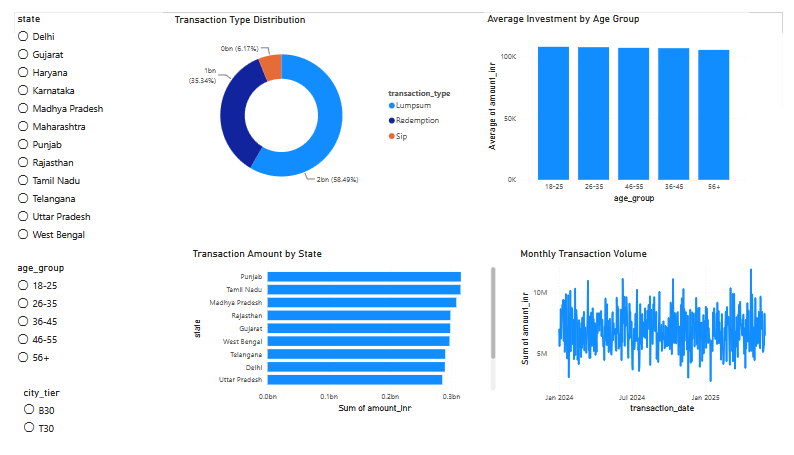

What the dashboard file says about the page in this screenshot:
{"tool":"powerbi","page":{"name":"Investor Analytics","canvas":[1280,720],"ordinal":2},"visuals":[{"type":"clusteredBarChart","title":"Transaction Amount by State","fields":{"Category":["investor_transactions_clean.state"],"Y":["Sum(investor_transactions_clean.amount_inr)"]},"box":[291.7,391.7,515,280],"z":0},{"type":"donutChart","title":"Transaction Type Distribution","fields":{"Category":["investor_transactions_clean.transaction_type"],"Y":["Sum(investor_transactions_clean.amount_inr)"]},"box":[261.7,1.7,485,320],"z":1000},{"type":"clusteredColumnChart","title":"Average Investment by Age Group","fields":{"Category":["investor_transactions_clean.age_group"],"Y":["Avg(investor_transactions_clean.amount_inr)"]},"box":[783.3,0,441.7,321.7],"z":2000},{"type":"lineChart","title":"Monthly Transaction Volume","fields":{"Y":["Sum(investor_transactions_clean.amount_inr)"],"Category":["investor_transactions_clean.transaction_date"]},"box":[838.3,391.7,441.7,281.7],"z":3000},{"type":"listSlicer","fields":{"Values":["investor_transactions_clean.state"]},"box":[0,0,246.7,400],"z":4000},{"type":"listSlicer","fields":{"Values":["investor_transactions_clean.age_group"]},"box":[0,415,280,180],"z":5000},{"type":"listSlicer","fields":{"Values":["investor_transactions_clean.city_tier"]},"box":[10,623.3,113.3,96.7],"z":6000}]}

Visuals, with their boxes in screenshot pixels (x1, y1, x2, y2), scaled from the page's 1280x720 canvas onto the 794x455 screenshot:
"Transaction Amount by State" clusteredBarChart: rect(181, 248, 500, 424)
"Transaction Type Distribution" donutChart: rect(162, 1, 463, 203)
"Average Investment by Age Group" clusteredColumnChart: rect(486, 0, 760, 203)
"Monthly Transaction Volume" lineChart: rect(520, 248, 793, 426)
listSlicer - investor_transactions_clean.state: rect(0, 0, 153, 253)
listSlicer - investor_transactions_clean.age_group: rect(0, 262, 174, 376)
listSlicer - investor_transactions_clean.city_tier: rect(6, 394, 76, 454)
